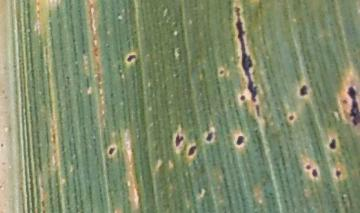tarspot: (233, 6, 258, 103), (347, 86, 360, 125), (125, 53, 137, 64), (175, 134, 184, 148), (204, 130, 214, 141), (299, 84, 308, 96), (329, 137, 337, 150), (235, 136, 245, 146), (188, 145, 197, 156), (254, 103, 261, 117), (334, 168, 342, 179), (312, 168, 319, 179), (107, 147, 116, 155), (238, 93, 247, 101), (287, 114, 296, 122), (341, 98, 349, 105), (304, 164, 312, 170), (219, 69, 224, 75)
